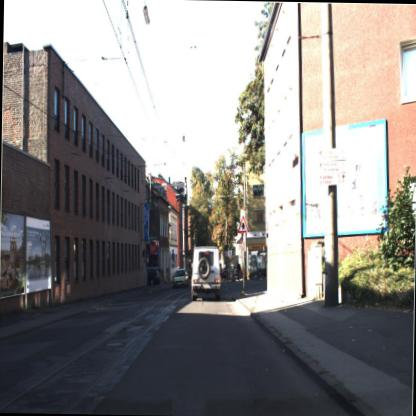danger: (234, 213, 250, 235)
